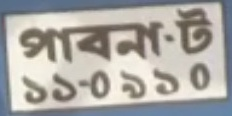0: (188, 62, 212, 91), (90, 68, 111, 101)
1: (19, 72, 49, 105), (51, 70, 78, 106), (152, 67, 180, 100)
9: (117, 67, 148, 101)
number: (15, 62, 215, 105)
pabna: (17, 19, 165, 65)
text: (12, 5, 216, 65)
to: (173, 4, 215, 58)
